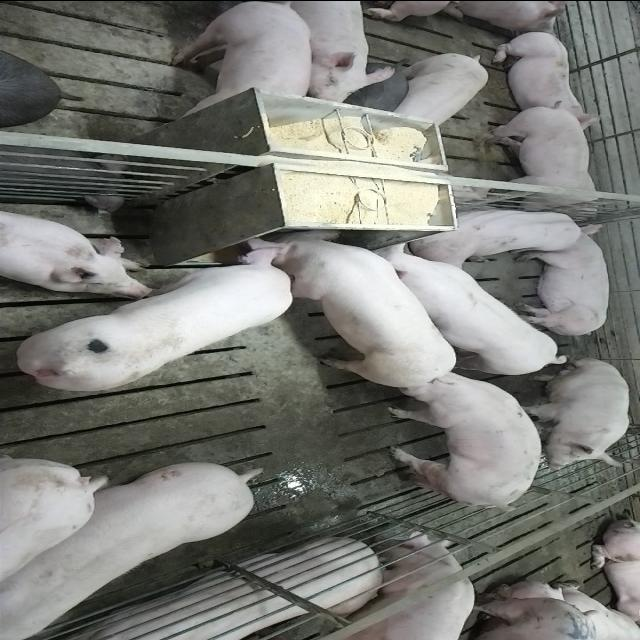Feeding: (17, 240, 299, 393), (254, 220, 466, 382)
Lateral_lying: (26, 539, 386, 640), (514, 222, 616, 338)
Sitting: (514, 355, 632, 469)
Standing: (3, 456, 266, 635), (357, 242, 570, 378), (378, 374, 548, 514), (155, 2, 312, 124), (472, 103, 612, 219), (332, 530, 474, 640), (254, 3, 398, 111), (391, 51, 488, 127)
Sternal_lying: (0, 205, 154, 294), (486, 28, 604, 122), (408, 203, 584, 265)
